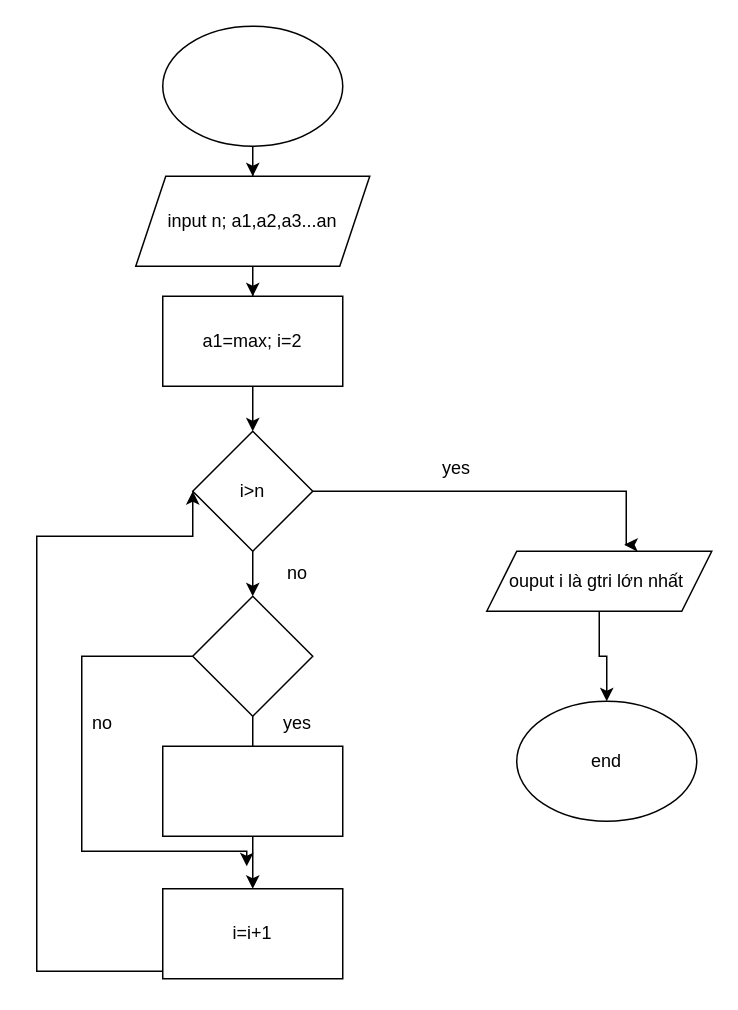
Some shapes in this 738 by 1010 pixel diagram are drawn without their labels. The shapes that lost their labels are listed below. From the top down, each one's centre as x and y in pixels, then its label:
At point (252, 85): "begin".
At point (252, 655): "ai>max".
At point (252, 790): "max=ai".
